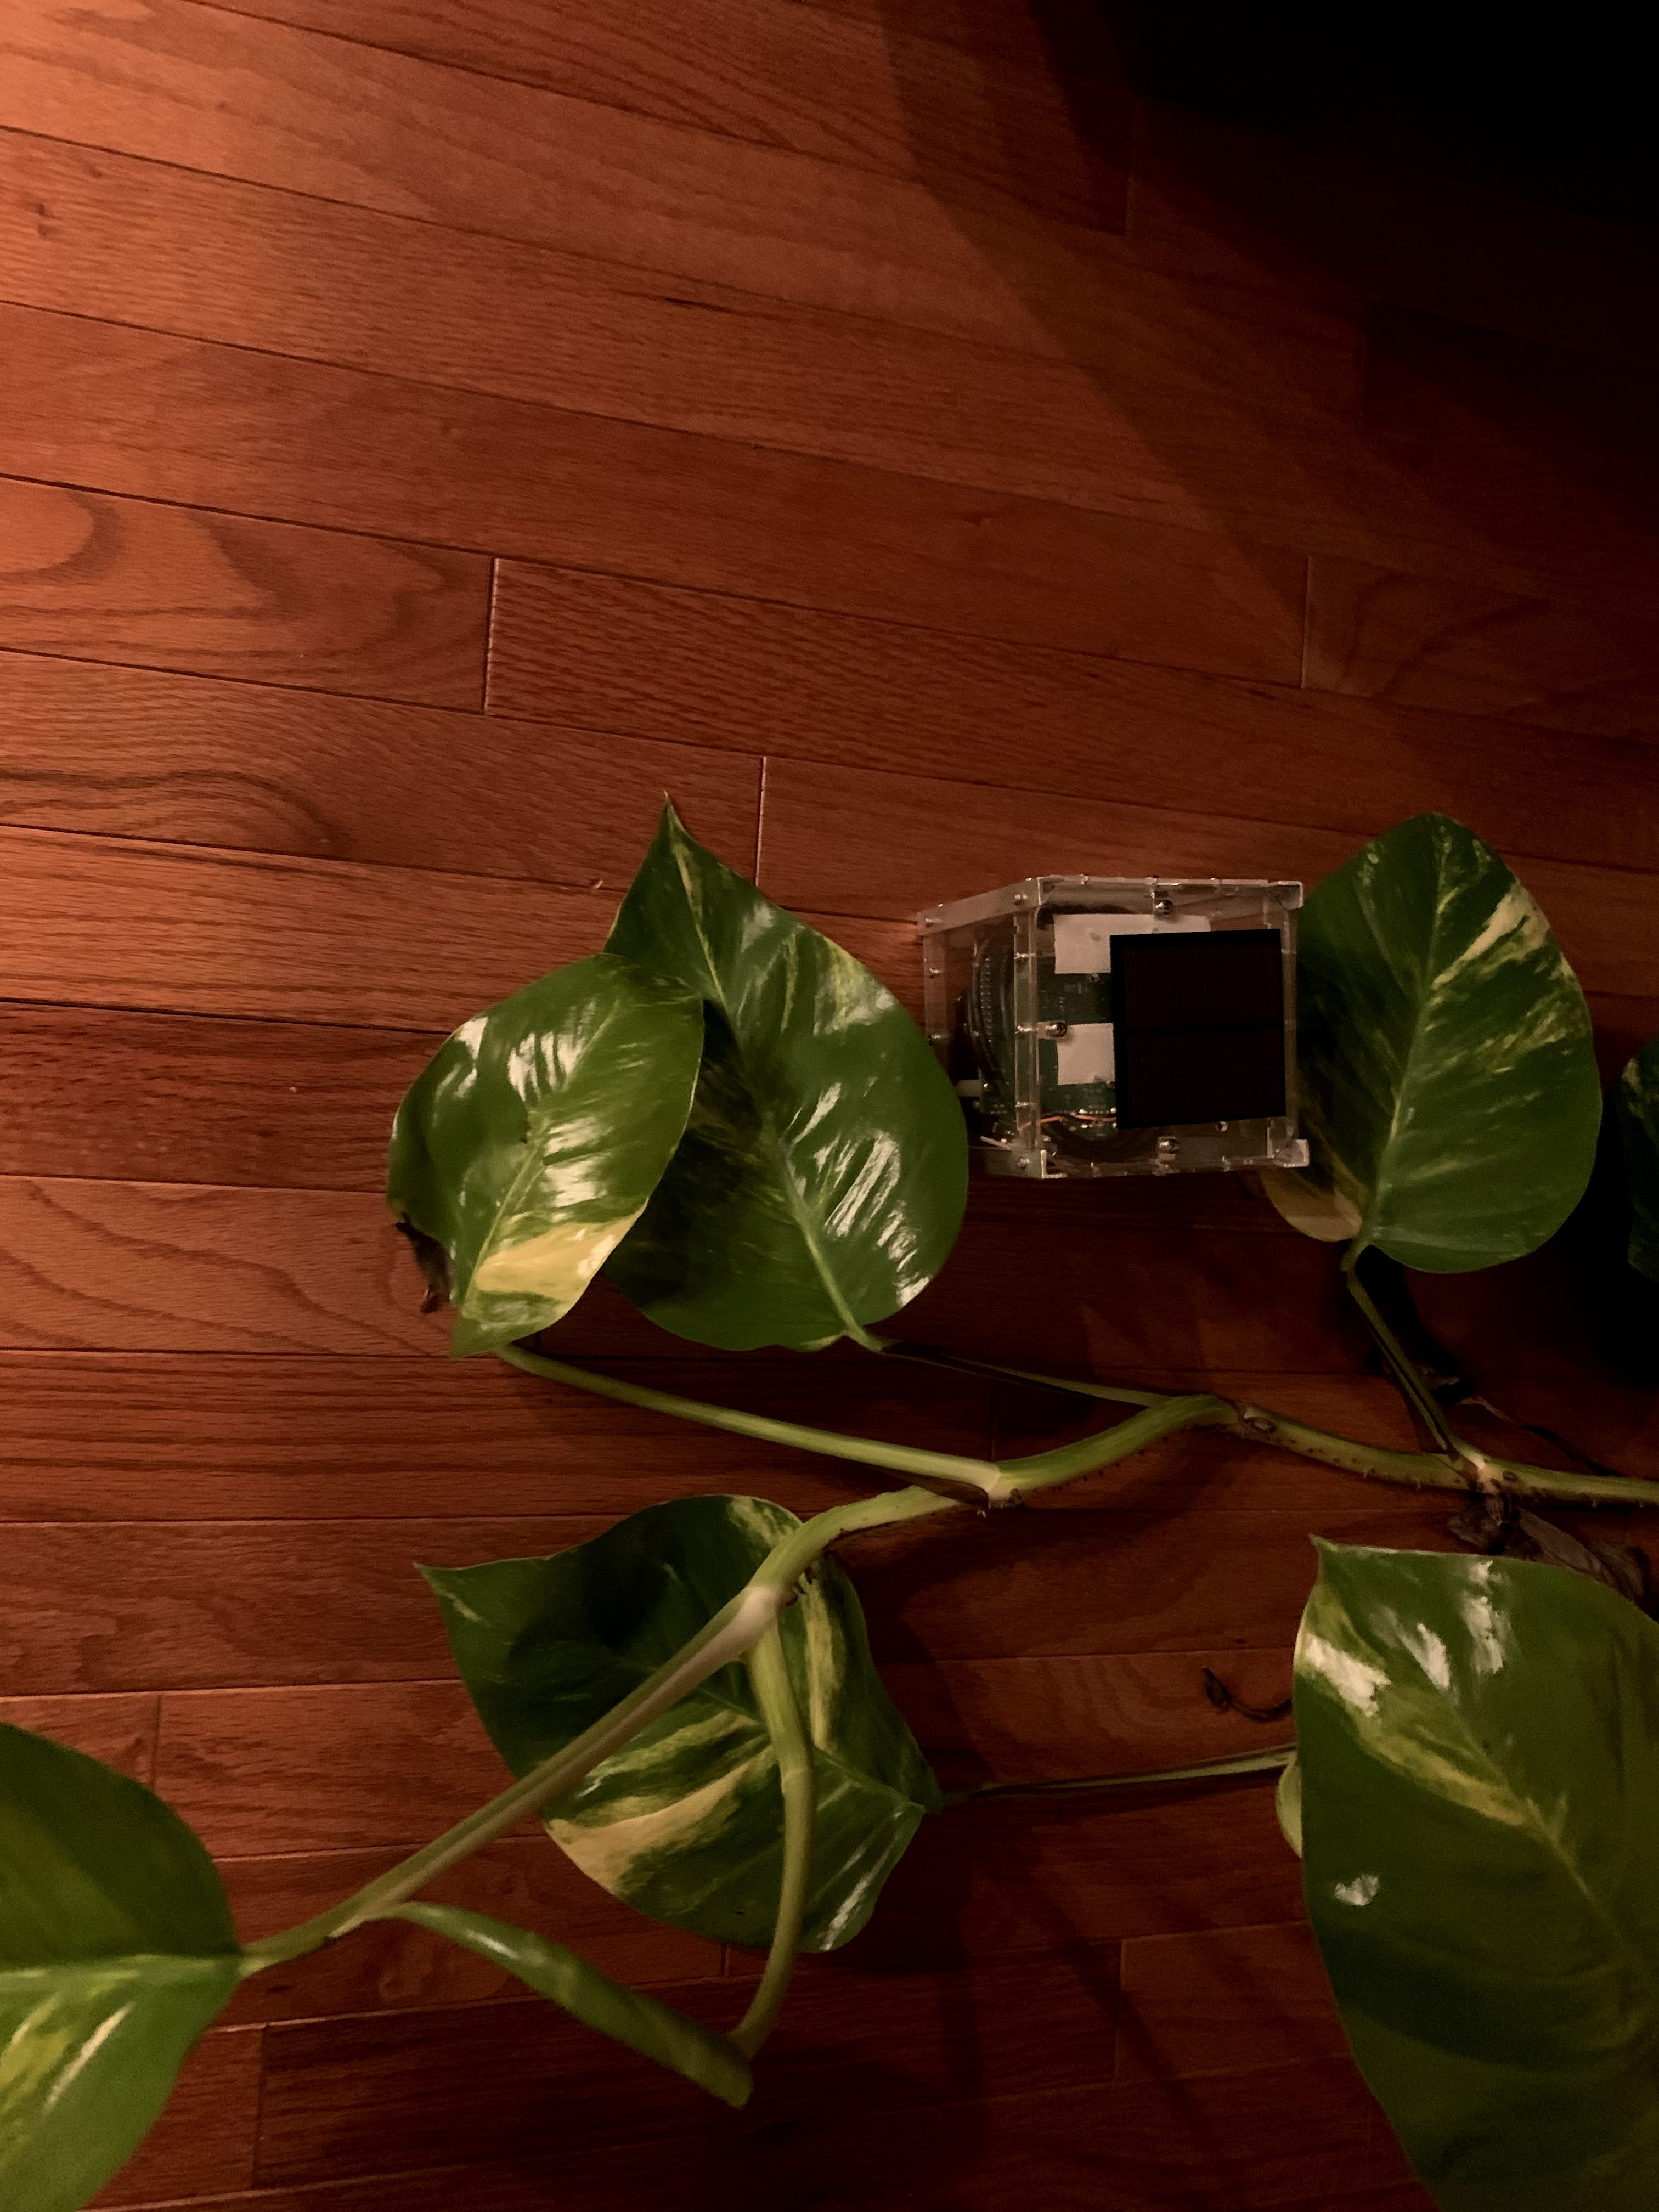Space-debris-cubesat: (890, 817, 1351, 1224)
